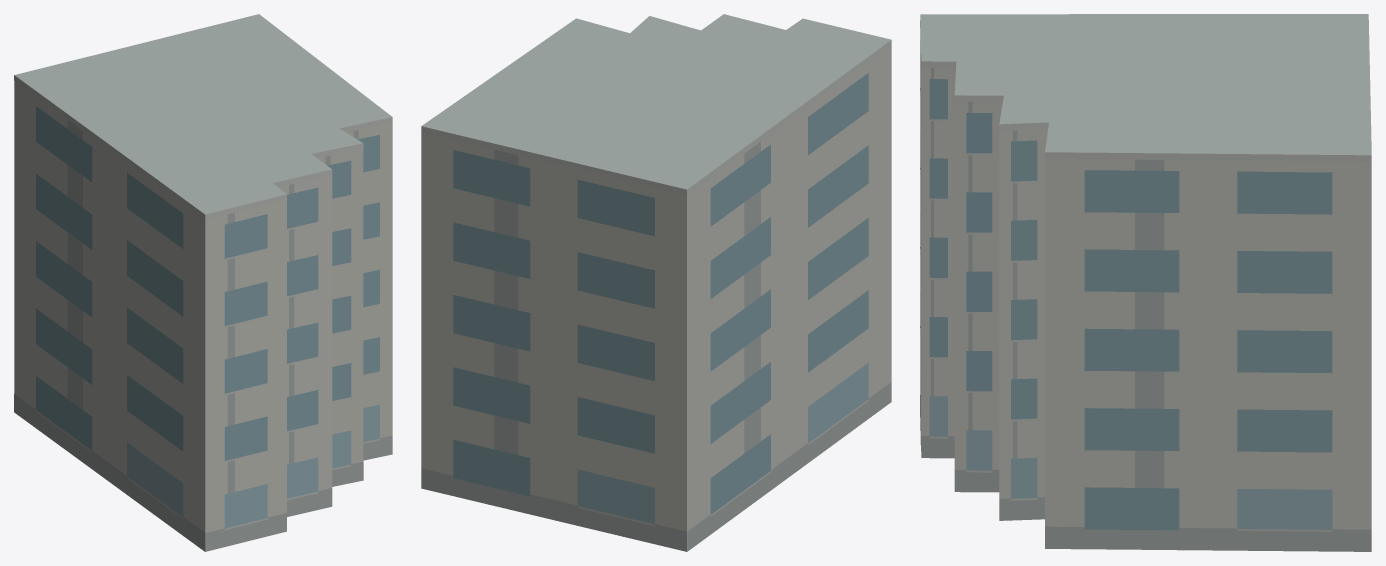
Rendered from survey-upis-32907020.glb.
The picture shows the model from 3 angles, left to right: view 1: azimuth 30°, elevation 25°; view 2: azimuth 150°, elevation 25°; view 3: azimuth 270°, elevation 25°; orthographic projection. The views are drawn at different scales.
Visible parts, largest first — view 1: survey-upis-32907020.tmp; view 2: survey-upis-32907020.tmp; view 3: survey-upis-32907020.tmp.
Part boxes in pixels (x1,y1,x2,y2): survey-upis-32907020.tmp: (14,14,392,551); survey-upis-32907020.tmp: (421,14,891,551); survey-upis-32907020.tmp: (920,14,1371,551).
Bounding box in the file's own units: 11.09 × 14.5 × 14.98.
